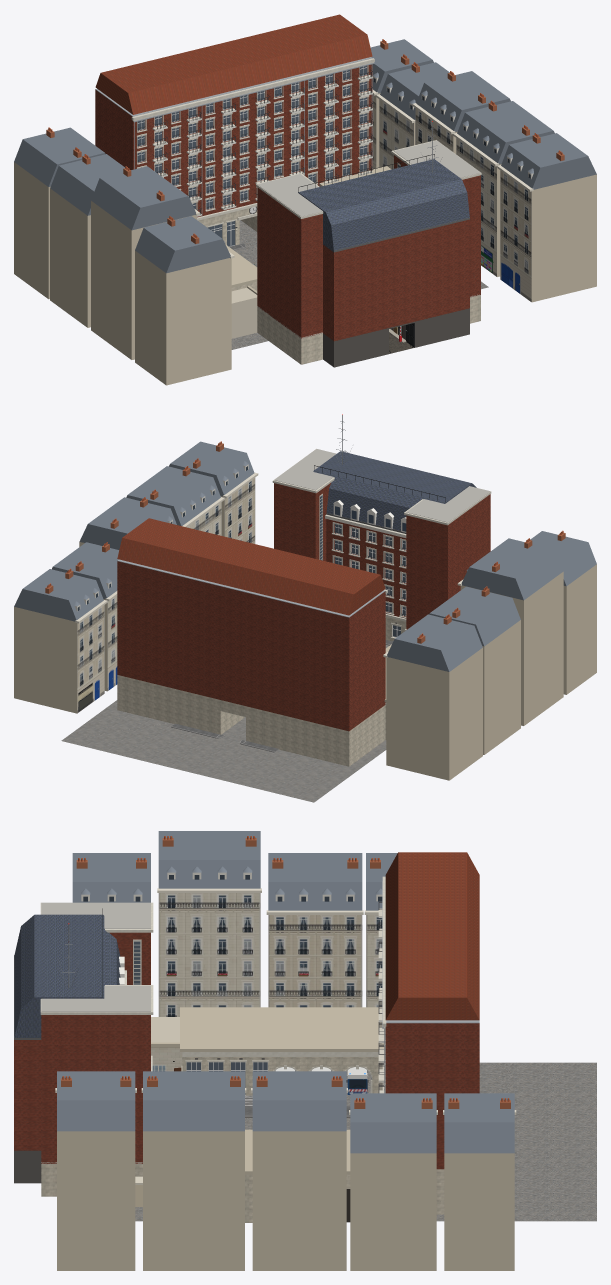
Rendered from cour.glb.
The picture shows the model from 3 angles, top to bottom: view 1: azimuth 30°, elevation 25°; view 2: azimuth 150°, elevation 25°; view 3: azimuth 270°, elevation 25°; orthographic projection. The views are drawn at different scales.
Parts seen in each view (by area): view 1: horloge_nc_brique, Mesh_139, Mesh_468, Mesh_488, Mesh_596, horloge_nc_pierre, horloge_nc_vitre, Mesh_422, Mesh_376, Mesh_423, Mesh_336, Mesh_469 (+20 smaller); view 2: horloge_nc_brique, Mesh_139, Mesh_0, Mesh_336, horloge_nc_socle, Mesh_316, Mesh_596, Mesh_422, Mesh_376, Mesh_423, Mesh_468, Mesh_337 (+16 smaller); view 3: horloge_nc_brique, Mesh_139, Mesh_0, Mesh_445, Mesh_399, Mesh_422, Mesh_488, Mesh_356, Mesh_609, Mesh_596, Mesh_376, Mesh_316 (+18 smaller).
Part boxes in pixels (<box>): horloge_nc_brique: <box>95,64,480,341</box>; Mesh_139: <box>95,14,372,114</box>; Mesh_468: <box>135,250,231,385</box>; Mesh_488: <box>500,170,596,302</box>; Mesh_596: <box>298,159,469,252</box>; horloge_nc_pierre: <box>131,58,481,338</box>; horloge_nc_vitre: <box>137,65,400,246</box>; Mesh_422: <box>91,201,196,359</box>; Mesh_376: <box>50,188,90,327</box>; Mesh_423: <box>91,166,195,230</box>; Mesh_336: <box>14,162,50,299</box>; Mesh_469: <box>135,216,230,273</box>; horloge_nc_brique: <box>117,483,490,731</box>; Mesh_139: <box>117,518,385,615</box>; Mesh_0: <box>61,645,389,802</box>; Mesh_336: <box>386,648,482,780</box>; horloge_nc_socle: <box>117,617,406,766</box>; Mesh_316: <box>14,605,104,713</box>; Mesh_596: <box>313,451,476,530</box>; Mesh_422: <box>460,571,563,725</box>; Mesh_376: <box>482,620,520,754</box>; Mesh_423: <box>461,538,563,600</box>; Mesh_468: <box>563,564,596,694</box>; Mesh_337: <box>387,614,482,671</box>; horloge_nc_brique: <box>14,932,479,1169</box>; Mesh_139: <box>385,852,479,1020</box>; Mesh_0: <box>135,1062,596,1221</box>; Mesh_445: <box>143,1131,244,1270</box>; Mesh_399: <box>252,1131,346,1270</box>; Mesh_422: <box>158,893,260,1016</box>; Mesh_488: <box>57,1131,135,1270</box>; Mesh_356: <box>350,1153,436,1270</box>; Mesh_609: <box>151,1007,383,1174</box>; Mesh_596: <box>14,914,120,1037</box>; Mesh_376: <box>268,915,362,1007</box>; Mesh_316: <box>444,1153,514,1270</box>.
Bounding box in the file's own units: 78 × 35.32 × 74.5.
476 materials, 114 textured.
